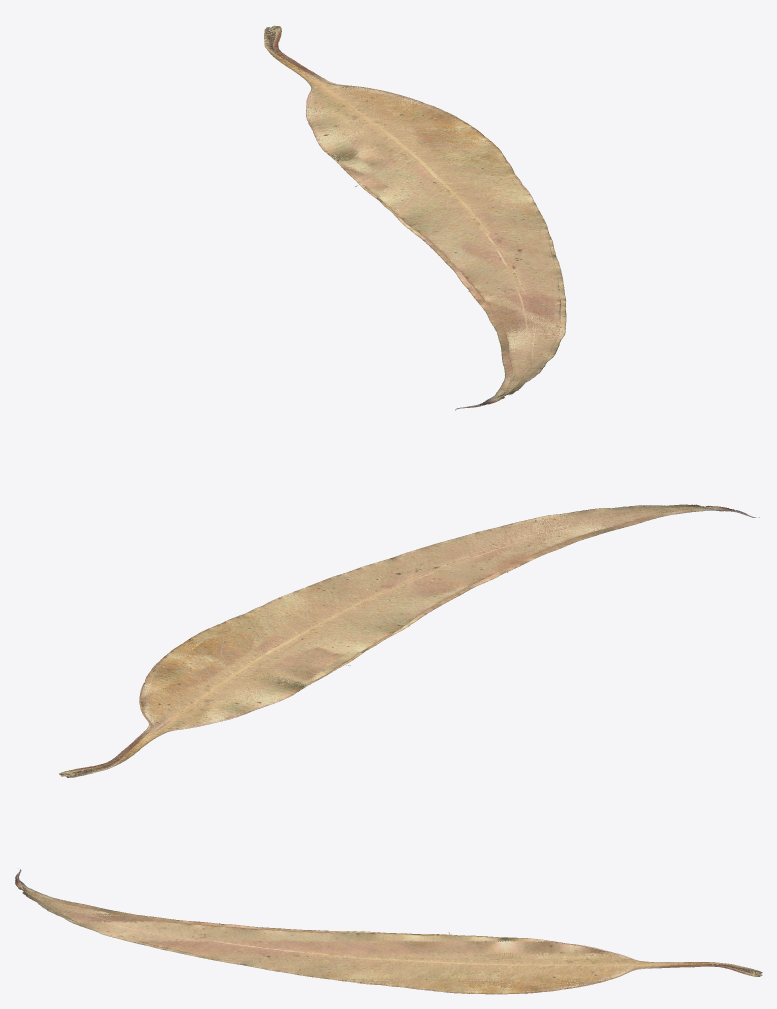
File: ExportedFBXFile.fbx
3 renders of one model, top to bottom at view 1: azimuth 30°, elevation 25°; view 2: azimuth 150°, elevation 25°; view 3: azimuth 270°, elevation 25°, orthographic. The views are drawn at different scales.
Visible parts, largest first — view 1: polySurface1; view 2: polySurface1; view 3: polySurface1.
Part boxes in pixels (<box>): polySurface1: <box>264,25,566,410</box>; polySurface1: <box>59,504,759,777</box>; polySurface1: <box>15,869,762,994</box>.
Bounding box in the file's own units: 14 × 2.22e-16 × 35.
2 materials, 2 textured.
